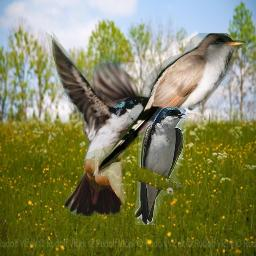Cuckoo: (92, 33, 247, 176)
Swallow: (45, 31, 156, 216), (135, 107, 186, 225)
